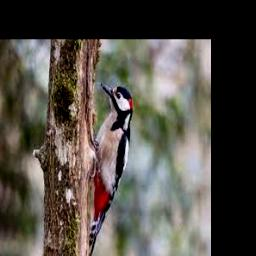Woodpecker: (89, 82, 133, 256)
